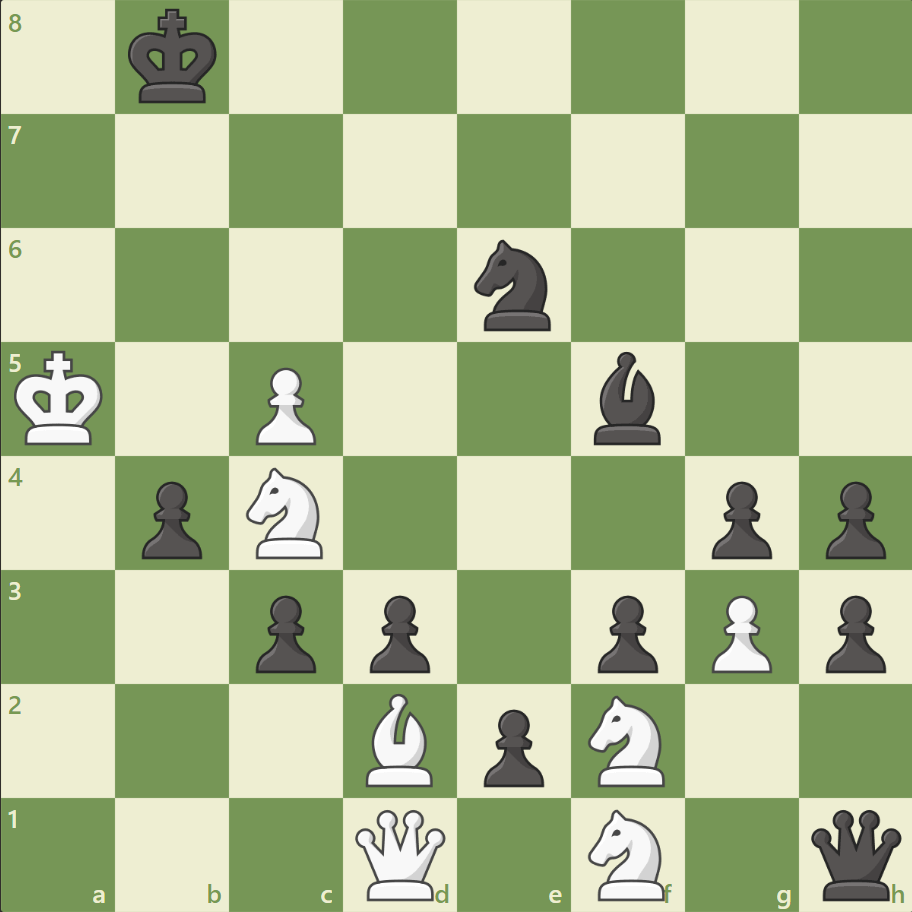B: (358, 687, 442, 790)
K: (11, 344, 111, 452)
N: (238, 461, 335, 564), (579, 688, 676, 791), (579, 802, 676, 904)
P: (247, 359, 322, 450), (701, 586, 776, 677)
Q: (351, 804, 450, 903)
b: (585, 347, 669, 449)
k: (124, 4, 224, 112)
n: (465, 234, 562, 337)
p: (133, 473, 208, 564), (701, 473, 776, 564), (247, 586, 322, 677), (474, 700, 549, 791), (815, 473, 889, 564), (361, 586, 435, 677), (588, 586, 662, 677), (815, 586, 889, 677)
q: (805, 804, 904, 903)
